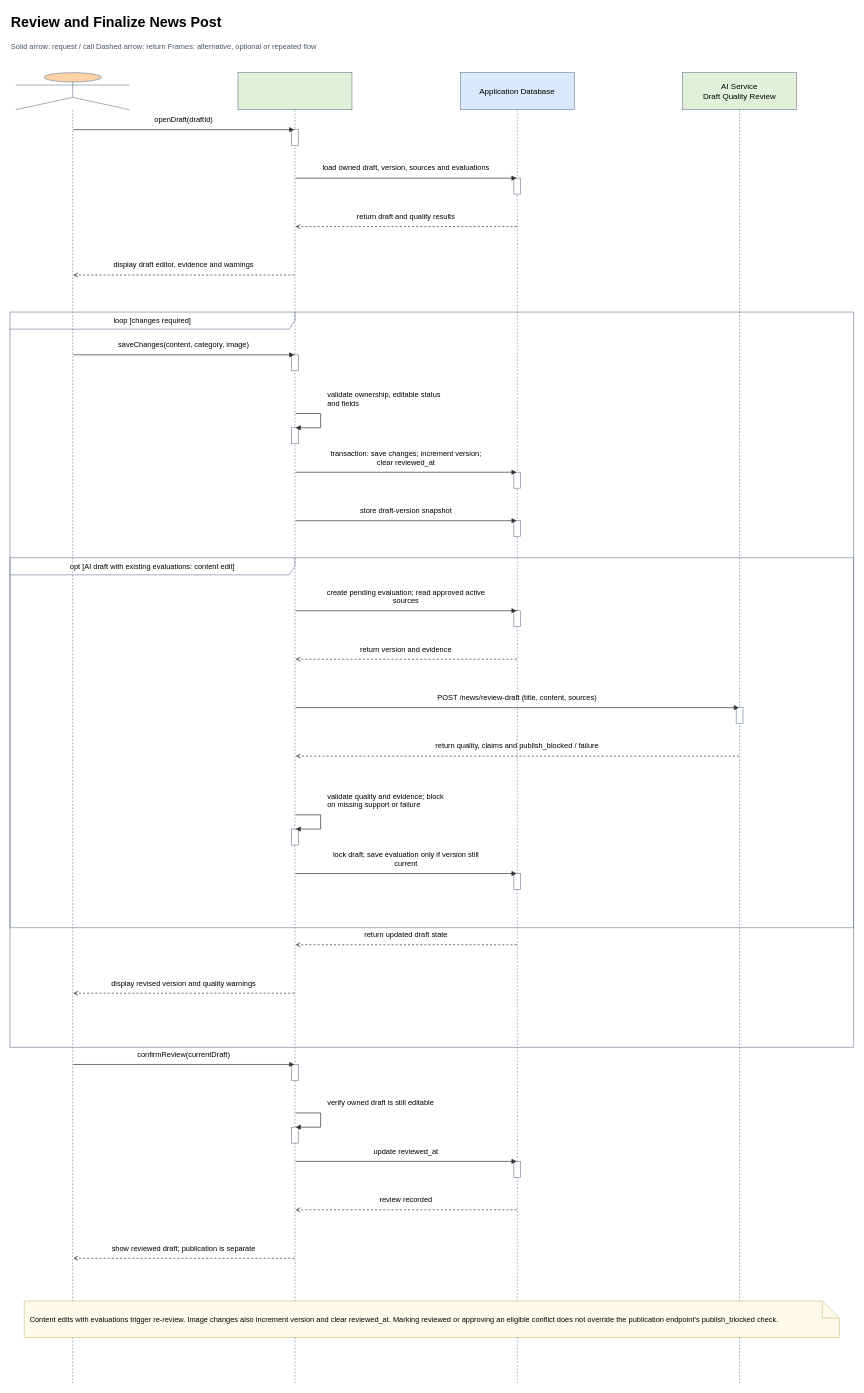
Some shapes in this 864 by 1393 pixel diagram are drawn without their labels. The box of each missing label's shape, as (x1, y1, x2, y2) in pixels:
Moderator / Administrator: (15, 72, 130, 1383)
Web Application (System): (237, 72, 352, 1383)
